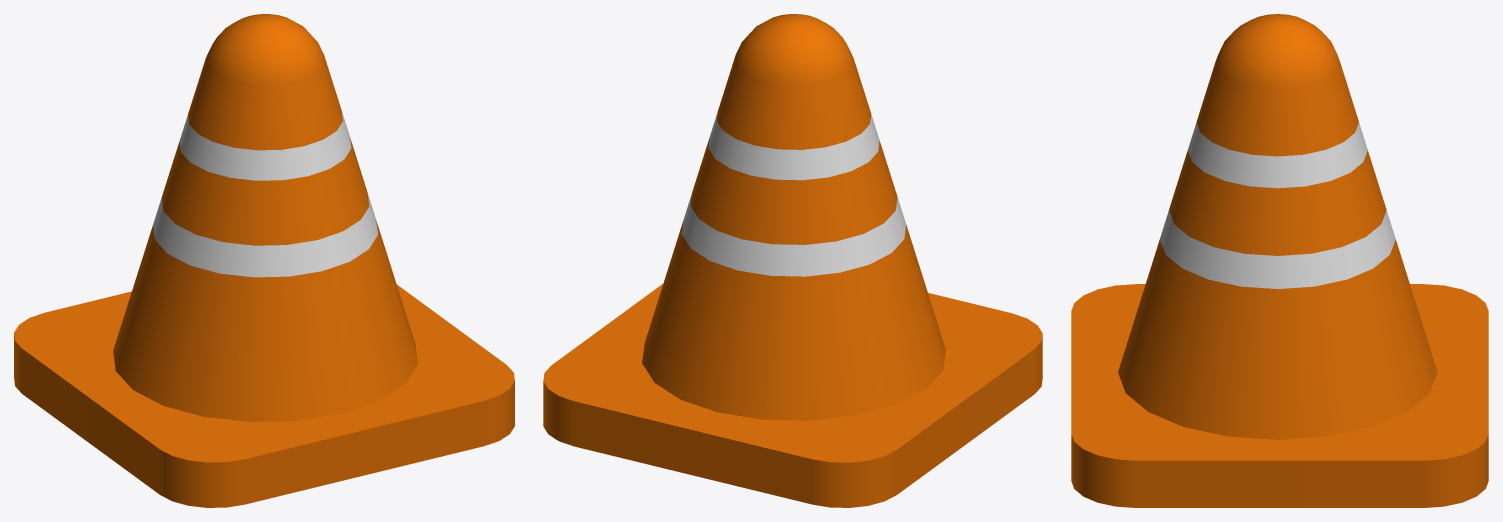
Rendered from spike.fbx.
3 renders of one model, left to right at view 1: azimuth 30°, elevation 25°; view 2: azimuth 150°, elevation 25°; view 3: azimuth 270°, elevation 25°, orthographic. The views are drawn at different scales.
Visible parts, largest first — view 1: pCylinder23; view 2: pCylinder23; view 3: pCylinder23.
Part boxes in pixels (x1=…): pCylinder23: x1=14, y1=14, x2=514, y2=507; pCylinder23: x1=543, y1=14, x2=1042, y2=507; pCylinder23: x1=1071, y1=14, x2=1488, y2=507.
Size of the model in its own units: 5.79 by 6.12 by 5.79.
